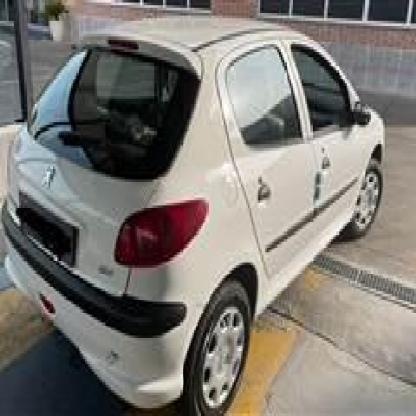Car: (0, 21, 388, 416)
